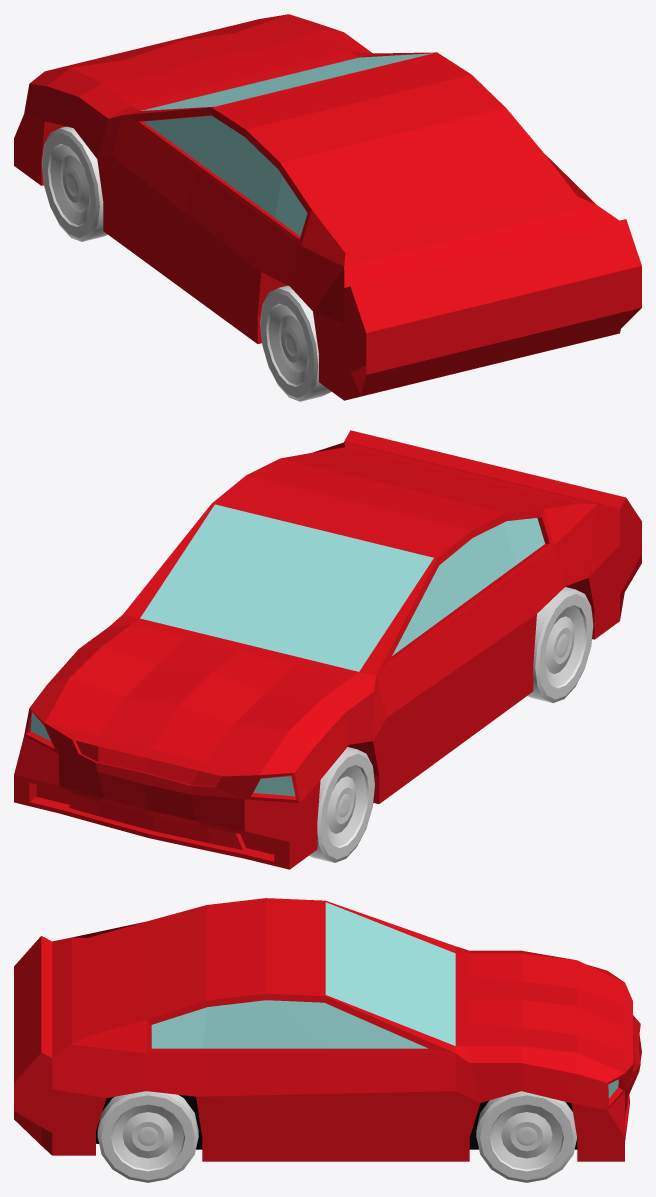
Rendered from Car.fbx.
The picture shows the model from 3 angles, top to bottom: view 1: azimuth 30°, elevation 25°; view 2: azimuth 150°, elevation 25°; view 3: azimuth 270°, elevation 25°; orthographic projection. The views are drawn at different scales.
Parts seen in each view (by area): view 1: Car, Left_front_wheel, Left_back_wheel; view 2: Car, Left_back_wheel, Left_front_wheel; view 3: Car, Right_back_wheel, Right_front_wheel.
Part boxes in pixels (x1,y1,x2,y2): Car: (14,14,641,400); Left_front_wheel: (41,126,107,241); Left_back_wheel: (260,285,331,401); Car: (14,430,641,869); Left_back_wheel: (527,587,593,702); Left_front_wheel: (309,747,374,862); Car: (14,898,641,1161); Right_back_wheel: (97,1091,198,1182); Right_front_wheel: (476,1091,576,1182).
Bounding box in the file's own units: 1.95 × 1.43 × 4.42.
